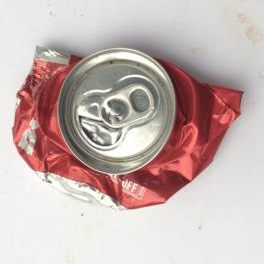Metal: (13, 49, 240, 205)
